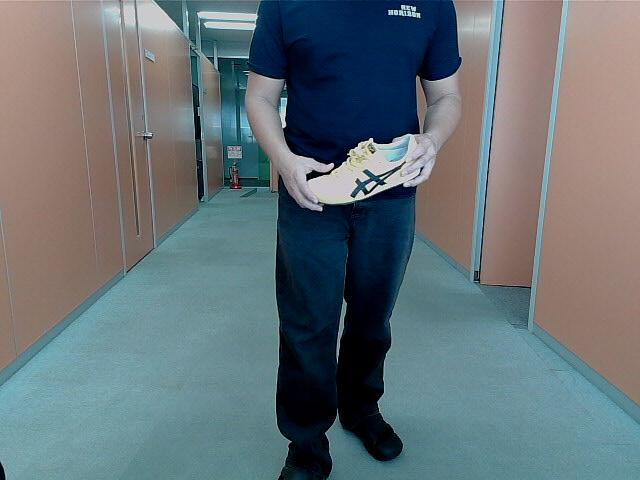Shoes: (296, 136, 428, 205)
